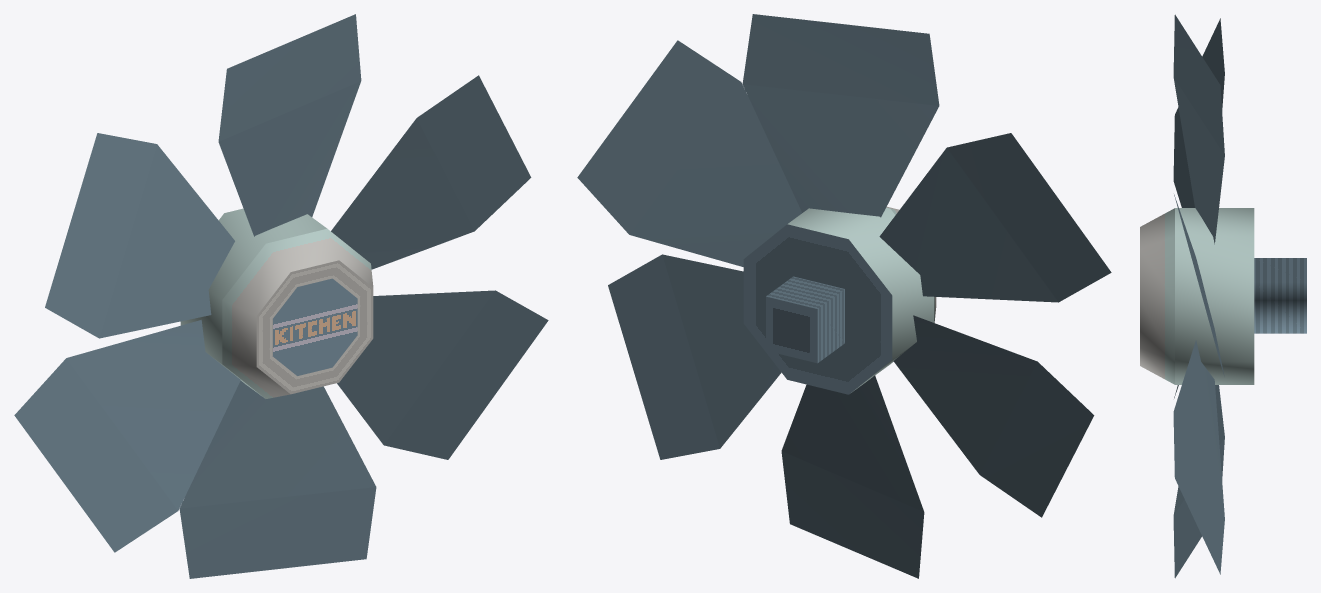
Rendered from 04bd_Ventilation_Fan.glb.
3 renders of one model, left to right at view 1: azimuth 30°, elevation 25°; view 2: azimuth 150°, elevation 25°; view 3: azimuth 270°, elevation 25°, orthographic. The views are drawn at different scales.
Parts seen in each view (by area): view 1: part_0; view 2: part_0; view 3: part_0.
Part boxes in pixels (x1,y1,x2,y2): part_0: (14,14,548,578); part_0: (577,14,1111,578); part_0: (1140,14,1306,578).
Size of the model in its own units: 0.3259 by 0.3159 by 0.0955.
Materials: 1 (1 with a texture image).
